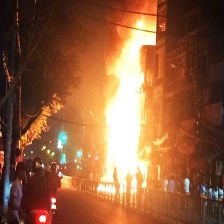fire: (105, 15, 153, 195)
